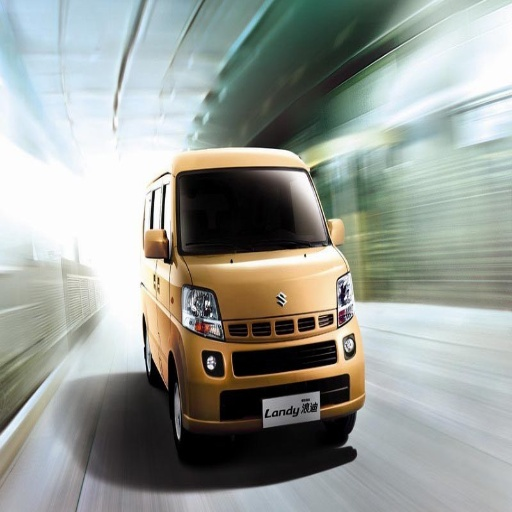front_bumper: (157, 310, 365, 441)
front_right_light: (177, 285, 223, 340)
hood: (178, 245, 347, 318)
